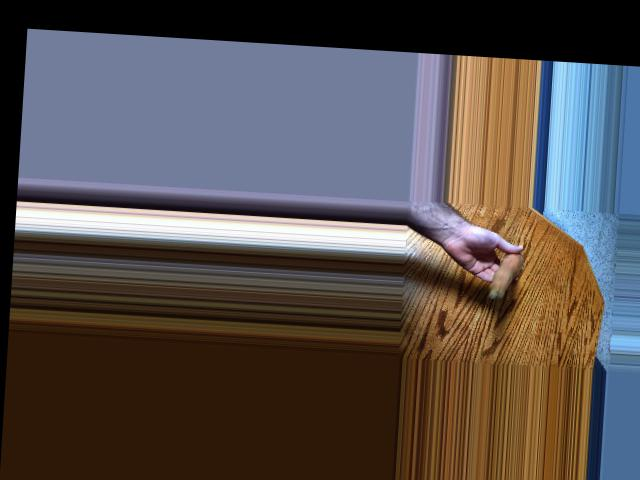sweet_potato: (485, 248, 523, 301)
